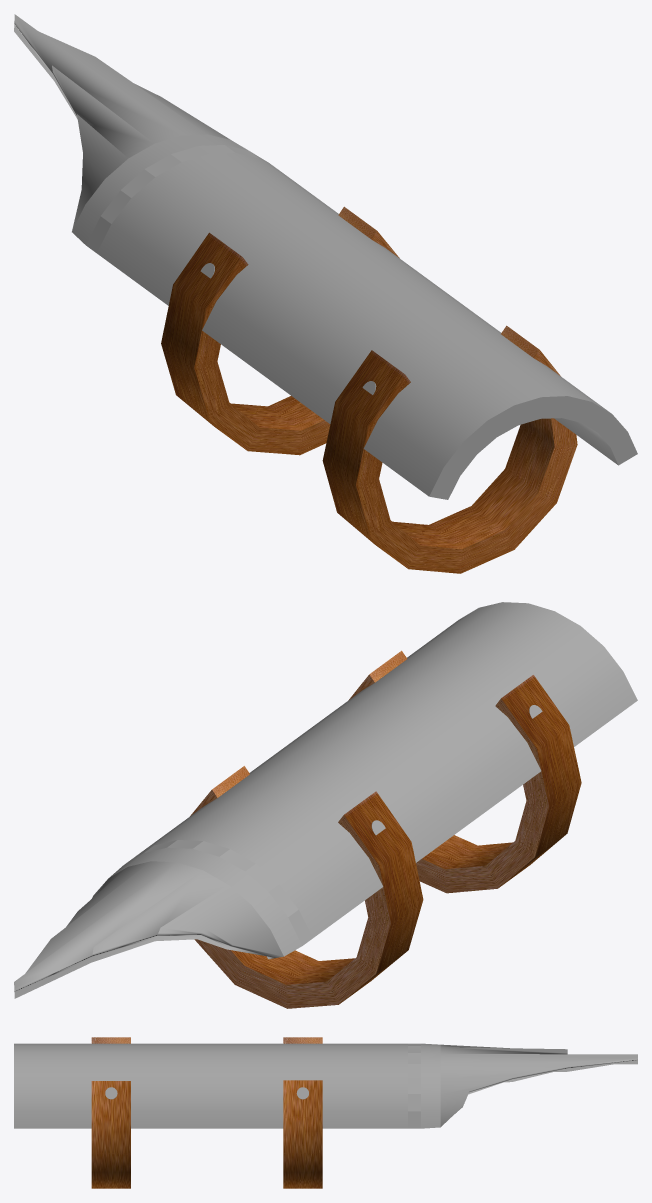
Rendered from OctoGauntlet (1).fbx.
The picture shows the model from 3 angles, top to bottom: view 1: azimuth 30°, elevation 25°; view 2: azimuth 150°, elevation 25°; view 3: azimuth 270°, elevation 25°; orthographic projection. The views are drawn at different scales.
Visible parts, largest first — view 1: OctoGauntlet; view 2: OctoGauntlet; view 3: OctoGauntlet.
Boxes of the visible parts, box(x1,y1,x2,y2) form: OctoGauntlet: box(14, 14, 637, 573); OctoGauntlet: box(14, 602, 637, 1008); OctoGauntlet: box(14, 1037, 637, 1188).
Bounding box in the file's own units: 126 × 120 × 519.
Materials: 3 (1 with a texture image).
